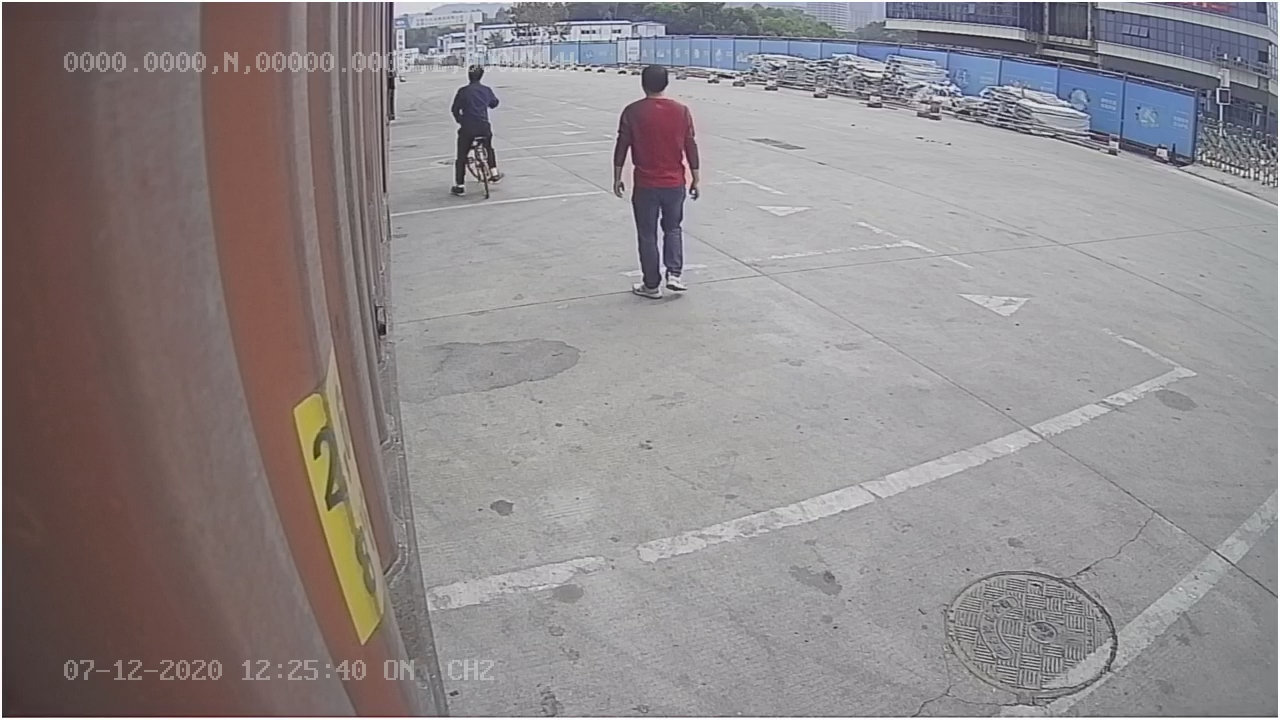person: (607, 60, 705, 299)
